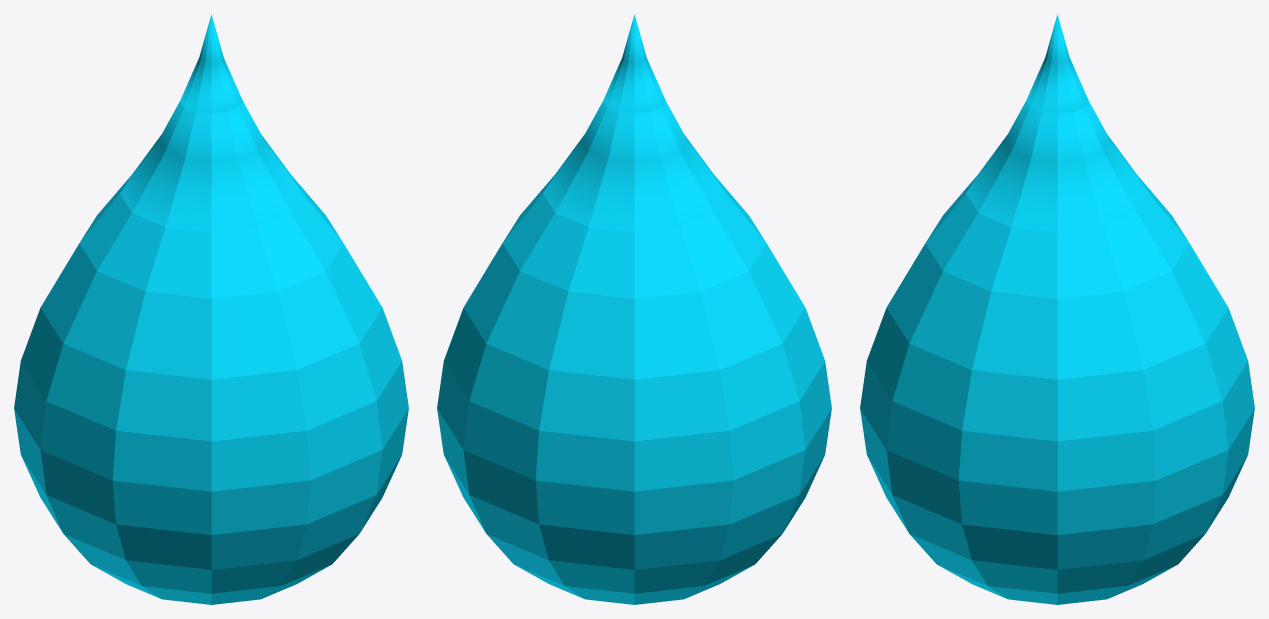
Rendered from tear_re.fbx.
3 views of the same model, side by side, from view 1: azimuth 30°, elevation 25°; view 2: azimuth 150°, elevation 25°; view 3: azimuth 270°, elevation 25° (orthographic).
Parts seen in each view (by area): view 1: tear_model2; view 2: tear_model2; view 3: tear_model2.
Part boxes in pixels (x1,y1,x2,y2): tear_model2: (14, 14, 408, 604); tear_model2: (437, 14, 831, 604); tear_model2: (860, 14, 1254, 604).
Bounding box in the file's own units: 2 × 3.2 × 2.
